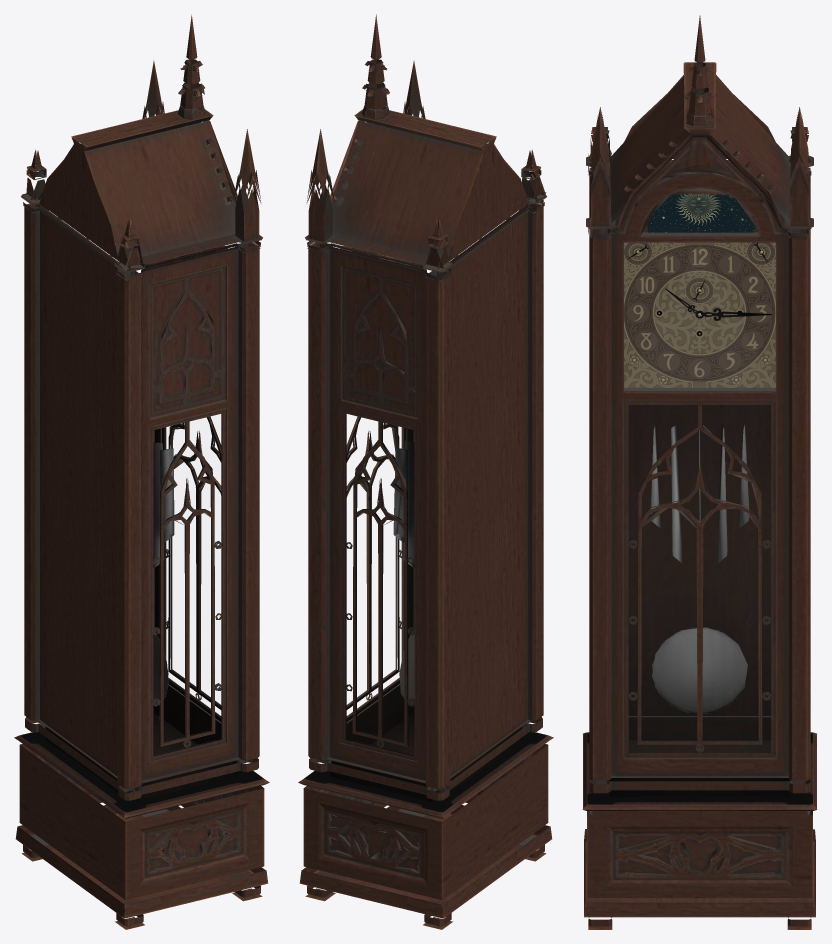
The model's file is clock_grandfather.glb.
The picture shows the model from 3 angles, left to right: view 1: azimuth 30°, elevation 25°; view 2: azimuth 150°, elevation 25°; view 3: azimuth 270°, elevation 25°; orthographic projection. The views are drawn at different scales.
Parts seen in each view (by area): view 1: ClockCase_ClockCase_0; view 2: ClockCase_ClockCase_0; view 3: ClockCase_ClockCase_0, Clockface_Clockface_0, MoonDial_MoonDial_0.
Part boxes in pixels (<box>): ClockCase_ClockCase_0: <box>14,14,269,929</box>; ClockCase_ClockCase_0: <box>298,14,553,929</box>; ClockCase_ClockCase_0: <box>582,15,817,929</box>; Clockface_Clockface_0: <box>624,242,775,387</box>; MoonDial_MoonDial_0: <box>647,189,755,232</box>.
Bounding box in the file's own units: 47.49 × 263 × 61.94.
4 materials, 3 textured.
